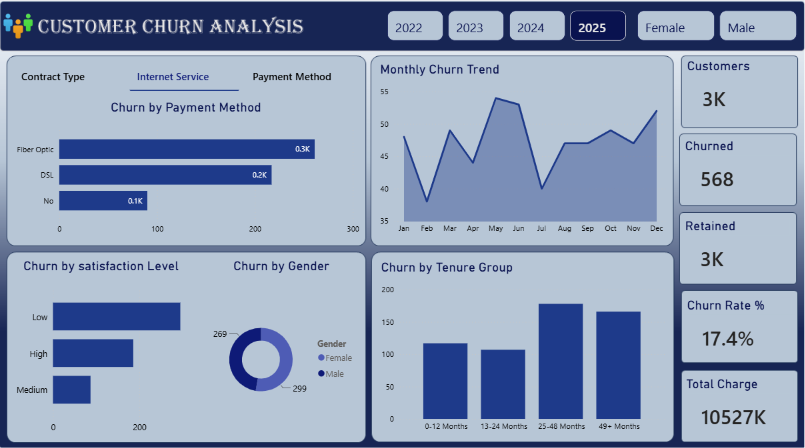

This screenshot's page, from the dashboard's own definition file:
{"tool":"powerbi","page":{"name":"Churn Dashboard","canvas":[1280,720],"ordinal":0},"visuals":[{"type":"lineChart","title":"Monthly Churn Trend","fields":{"Y":["customer_churn.Churned Customers"],"Category":["Date Table.Month"]},"box":[600,101,464,284],"z":0},{"type":"advancedSlicerVisual","fields":{"Values":["Parameter.Parameter"]},"box":[16,96,556,57],"z":1000},{"type":"clusteredBarChart","title":"Churn by Payment Method","fields":{"Category":["customer_churn.Internet_Service"],"Y":["customer_churn.Churned Customers"]},"box":[16,160,560,224],"z":2000},{"type":"clusteredBarChart","title":"Churn by satisfaction Level","fields":{"Y":["customer_churn.Churned Customers"],"Category":["customer_churn.satisfaction Level"]},"box":[16,414,290,288],"z":3000},{"type":"donutChart","title":"Churn by Gender","fields":{"Y":["customer_churn.Churned Customers"],"Category":["customer_churn.Gender"]},"box":[320,414,256,288],"z":4000},{"type":"clusteredColumnChart","title":"Churn by Tenure Group","fields":{"Category":["customer_churn.Tenure Group"],"Y":["customer_churn.Churned Customers"]},"box":[602,415,462,284],"z":5000},{"type":"cardVisual","title":"Customers","fields":{"Data":["customer_churn.Total Customers"]},"box":[1088,96,176,103],"z":6000},{"type":"cardVisual","title":"Churned","fields":{"Data":["customer_churn.Churned Customers"]},"box":[1085,220,178,106],"z":7000},{"type":"cardVisual","title":"Retained","fields":{"Data":["customer_churn.Active Customers"]},"box":[1085,346,176,106],"z":8000},{"type":"cardVisual","title":"Churn Rate %","fields":{"Data":["customer_churn.Churn Rate %"]},"box":[1088,472,176,106],"z":9000},{"type":"cardVisual","title":"Total Charge","fields":{"Data":["customer_churn.Total Charge"]},"box":[1087,598,176,105],"z":10000},{"type":"advancedSlicerVisual","fields":{"Values":["Date Table.year"]},"box":[611,14,392,58],"z":11000},{"type":"advancedSlicerVisual","fields":{"Values":["customer_churn.Gender"]},"box":[1008,14,264,58],"z":12000},{"type":"image","box":[4,20,48,47],"z":12001}]}

Visuals, with their boxes in screenshot pixels (x1, y1, x2, y2), scaled from the page's 1280x720 canvas onto the 805x448 screenshot:
"Monthly Churn Trend" lineChart: (left=377, top=63, right=669, bottom=240)
advancedSlicerVisual - Parameter.Parameter: (left=10, top=60, right=360, bottom=95)
"Churn by Payment Method" clusteredBarChart: (left=10, top=100, right=362, bottom=239)
"Churn by satisfaction Level" clusteredBarChart: (left=10, top=258, right=192, bottom=437)
"Churn by Gender" donutChart: (left=201, top=258, right=362, bottom=437)
"Churn by Tenure Group" clusteredColumnChart: (left=379, top=258, right=669, bottom=435)
"Customers" cardVisual: (left=684, top=60, right=795, bottom=124)
"Churned" cardVisual: (left=682, top=137, right=794, bottom=203)
"Retained" cardVisual: (left=682, top=215, right=793, bottom=281)
"Churn Rate %" cardVisual: (left=684, top=294, right=795, bottom=360)
"Total Charge" cardVisual: (left=684, top=372, right=794, bottom=437)
advancedSlicerVisual - Date Table.year: (left=384, top=9, right=631, bottom=45)
advancedSlicerVisual - customer_churn.Gender: (left=634, top=9, right=800, bottom=45)
image: (left=3, top=12, right=33, bottom=42)
